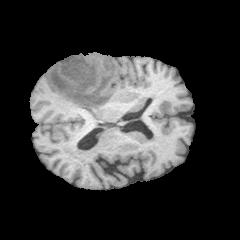glioma: (49, 53, 118, 110)
